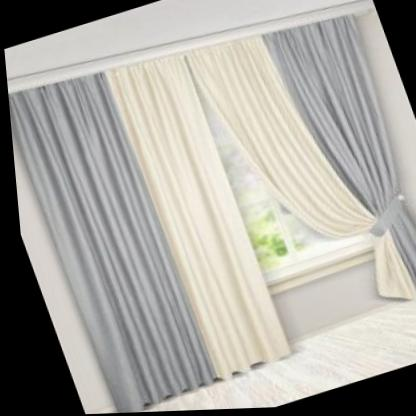Curtains: (7, 58, 283, 414), (183, 19, 416, 304)
